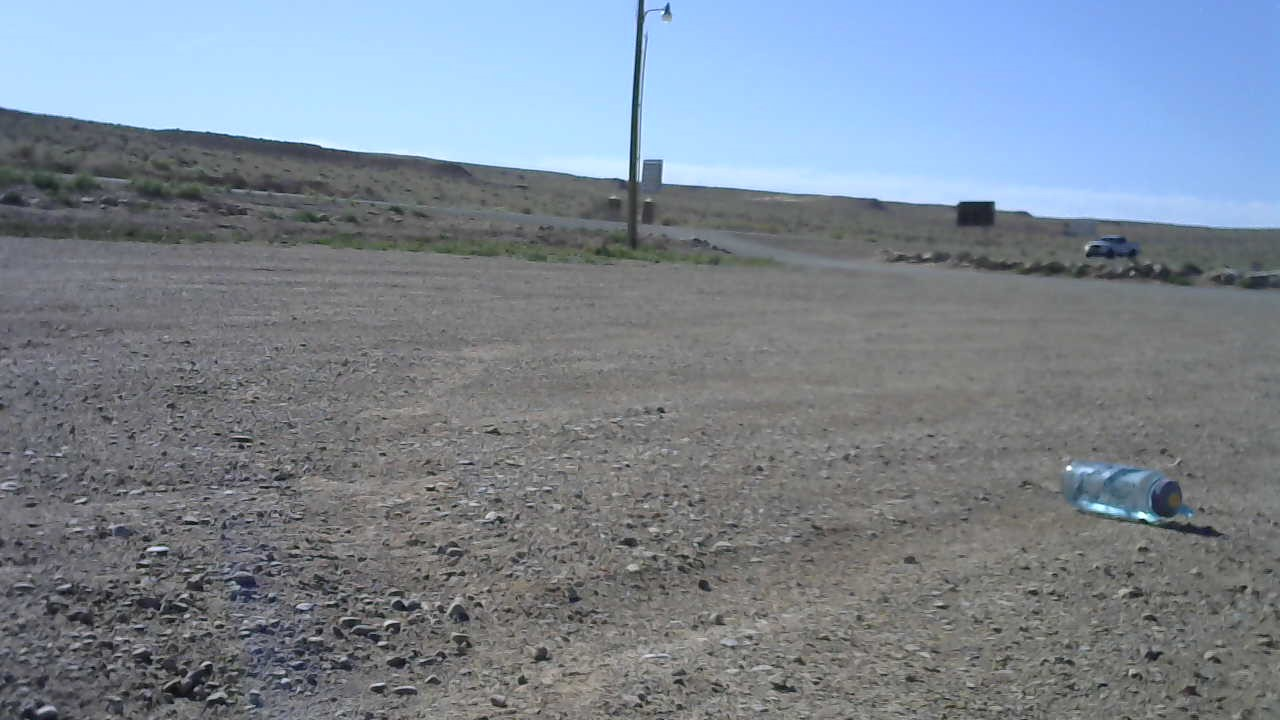bottle: (1056, 445, 1199, 529)
